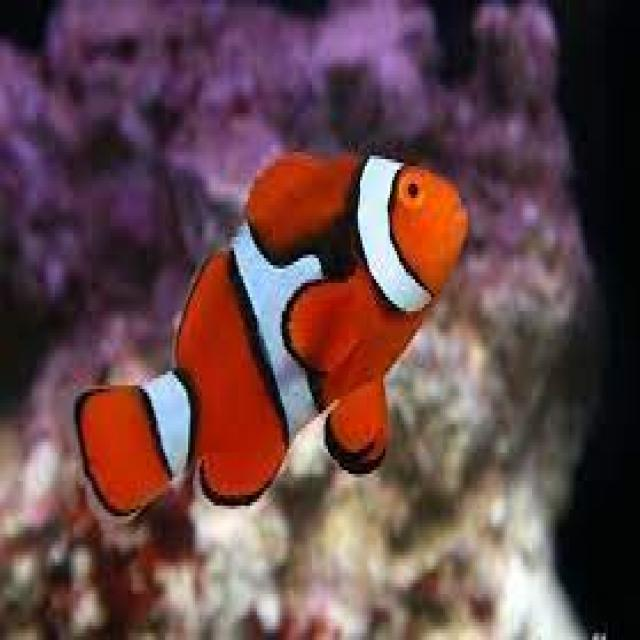Amphiprion-percula: (28, 97, 492, 532)
